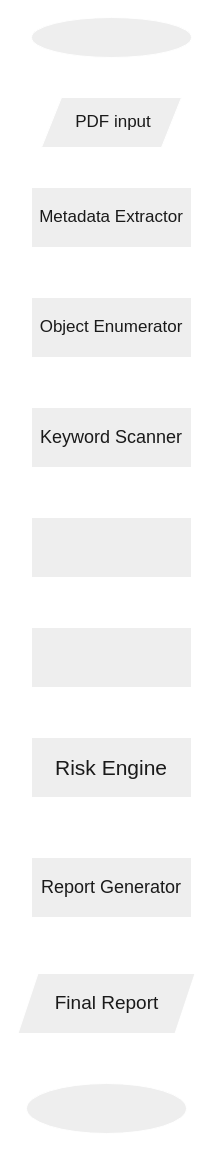
The diagram is 212 pixels wide and 1151 high, and some of its shapes have lost their labels. Here are the shapes that lost their labels. From the top down, the centre of each, then its label:
At [111,37]: "Start".
At [111,547]: "Deep Parser".
At [111,657]: "IOC Extractor".
At [106,1108]: "end".
